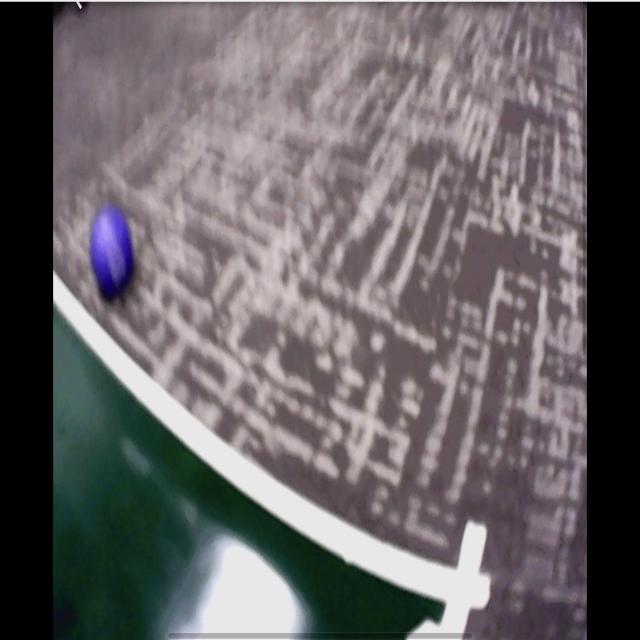ball: (89, 206, 135, 291)
